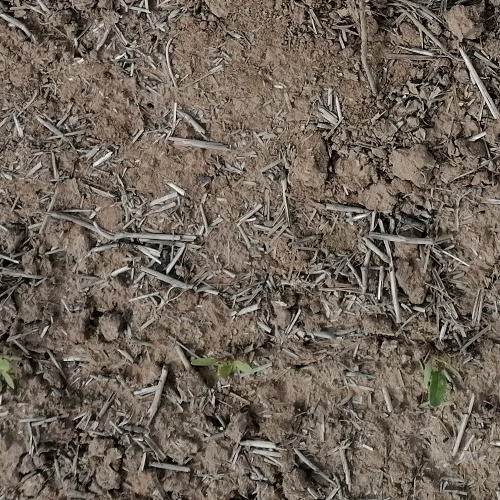beet: (427, 343, 455, 414), (191, 354, 259, 380)
